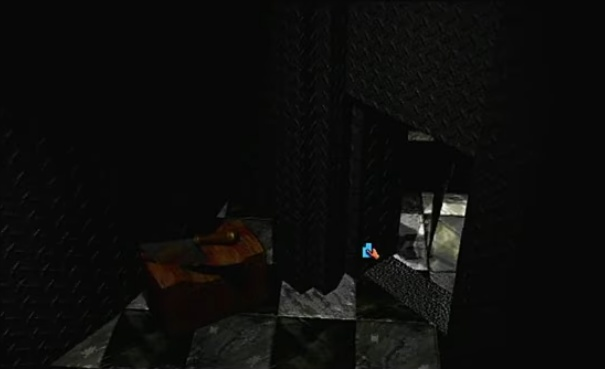Keep: (355, 238, 385, 263)
